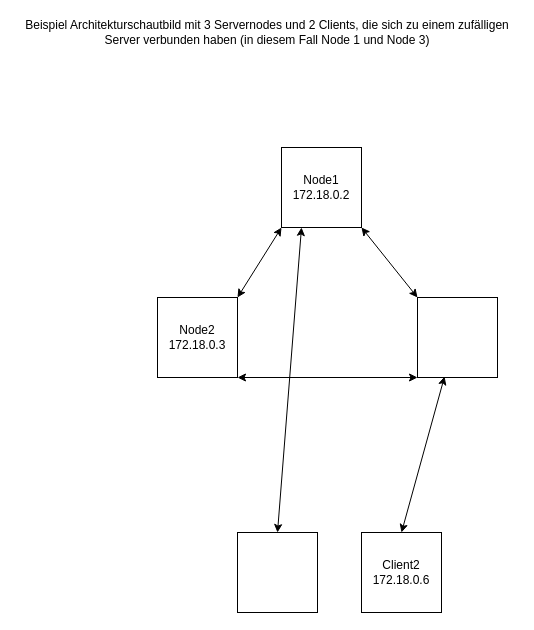
Image size: 534x630. Some labels were removed from this diagram. The box of each missing label's shape, as (x1, y1, x2, y2) in pixels:
Client1 172.18.0.5: (236, 532, 318, 612)
Node3 172.18.0.4: (416, 296, 498, 378)
